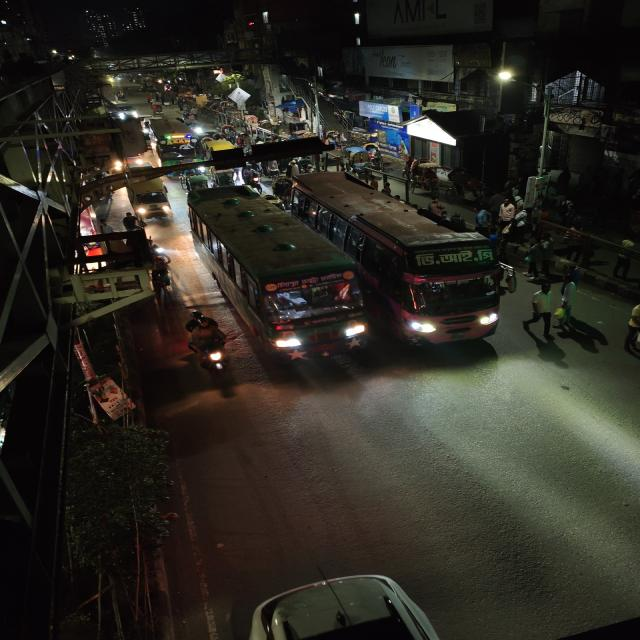bus: (278, 169, 516, 353), (188, 184, 367, 368), (140, 117, 206, 160)
human_hauler: (125, 176, 173, 218)
motorcycle: (179, 306, 238, 380)
pedestrian: (555, 262, 584, 334), (528, 282, 559, 336), (522, 240, 553, 279), (496, 198, 517, 229), (474, 206, 493, 232)
rickshaw: (269, 175, 300, 208)
